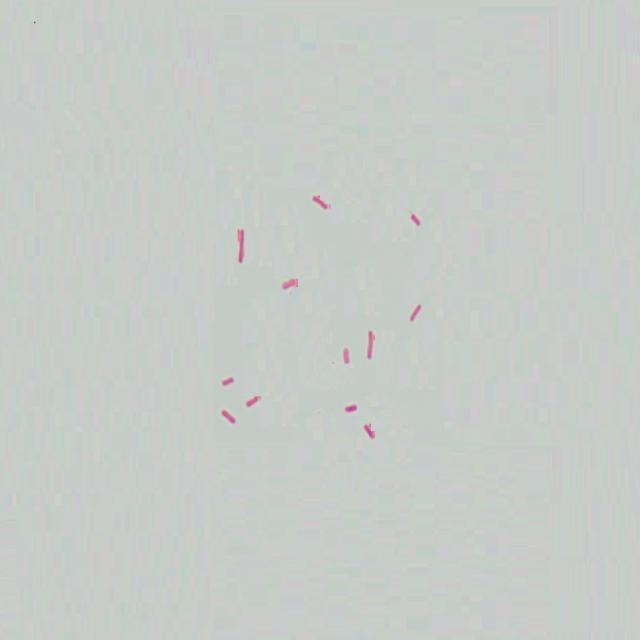E-coli: (234, 226, 247, 266), (218, 407, 240, 430), (310, 190, 331, 212), (361, 417, 378, 444), (407, 208, 425, 233), (408, 300, 426, 325), (280, 276, 305, 292), (339, 343, 353, 370), (366, 327, 377, 361), (215, 372, 235, 390), (243, 392, 261, 408), (343, 400, 359, 415)
